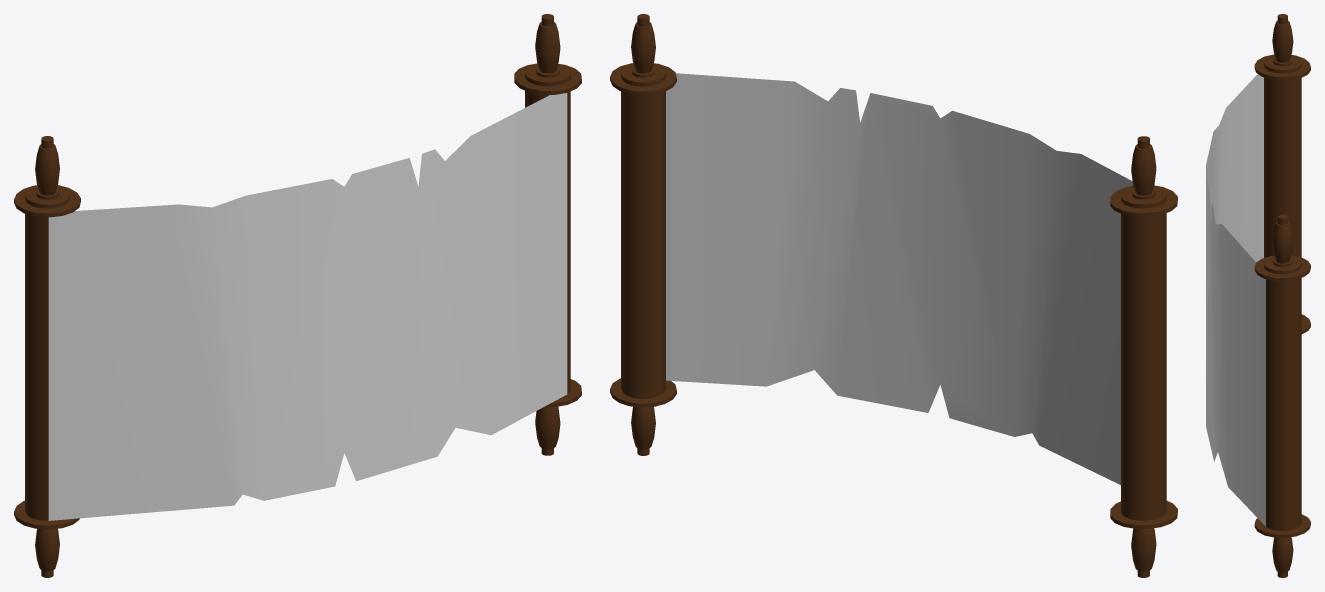
The model's file is Scroll.fbx.
3 renders of one model, left to right at view 1: azimuth 30°, elevation 25°; view 2: azimuth 150°, elevation 25°; view 3: azimuth 270°, elevation 25°, orthographic. The views are drawn at different scales.
Parts seen in each view (by area): view 1: Scroll.001; view 2: Scroll.001; view 3: Scroll.001.
Part boxes in pixels (<box>): Scroll.001: <box>14,14,581,577</box>; Scroll.001: <box>610,14,1177,577</box>; Scroll.001: <box>1206,14,1310,577</box>.
Size of the model in its own units: 0.8848 by 0.6609 by 0.175.
